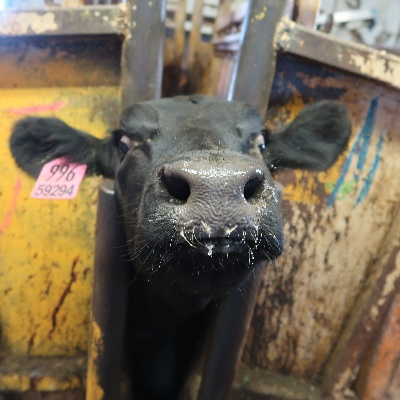fidget_spinner: (156, 156, 264, 236)
